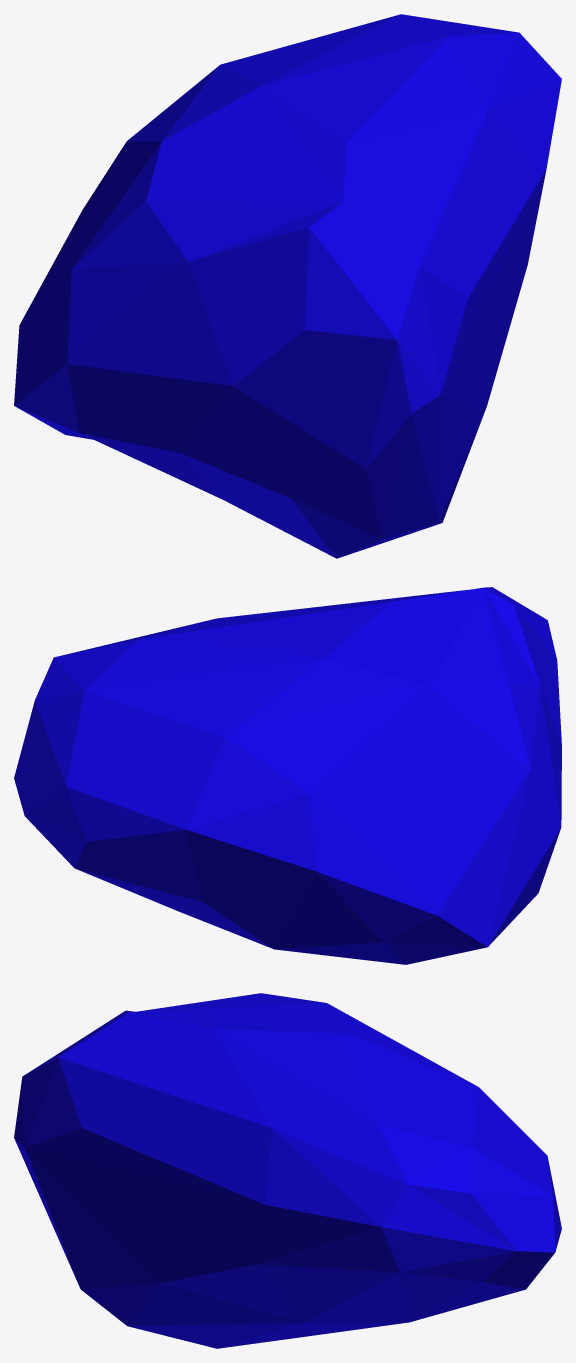
Rendered from Rock6.fbx.
The picture shows the model from 3 angles, top to bottom: view 1: azimuth 30°, elevation 25°; view 2: azimuth 150°, elevation 25°; view 3: azimuth 270°, elevation 25°; orthographic projection. The views are drawn at different scales.
Parts seen in each view (by area): view 1: Rock_1; view 2: Rock_1; view 3: Rock_1.
Part boxes in pixels (box(x1,y1,x2,y2)): Rock_1: box(14, 14, 561, 558); Rock_1: box(14, 587, 561, 964); Rock_1: box(14, 993, 561, 1348).
Size of the model in its own units: 157 by 105 by 166.
